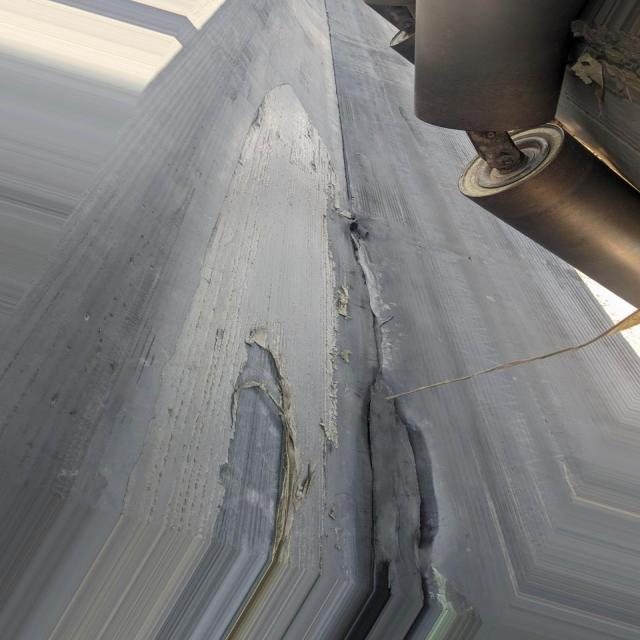Roller: (459, 122, 640, 309), (416, 0, 583, 133)
Tear: (319, 214, 377, 586), (214, 342, 281, 553)
